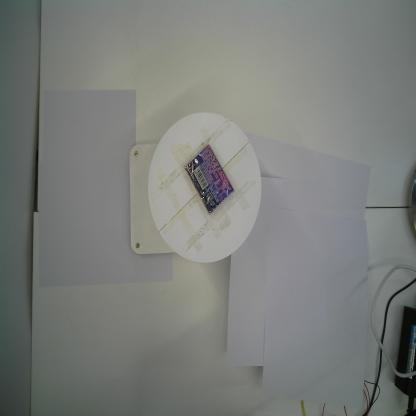Gum: (184, 144, 235, 216)
